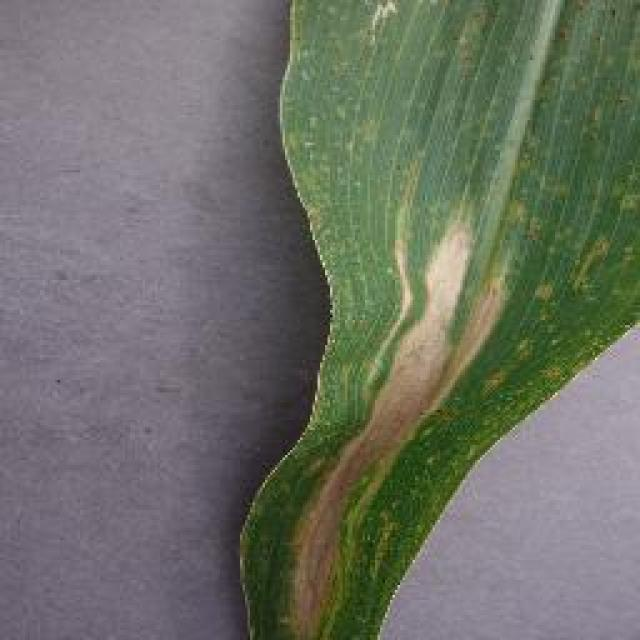Corn___Northern_Leaf_Blight: (215, 0, 640, 638)
